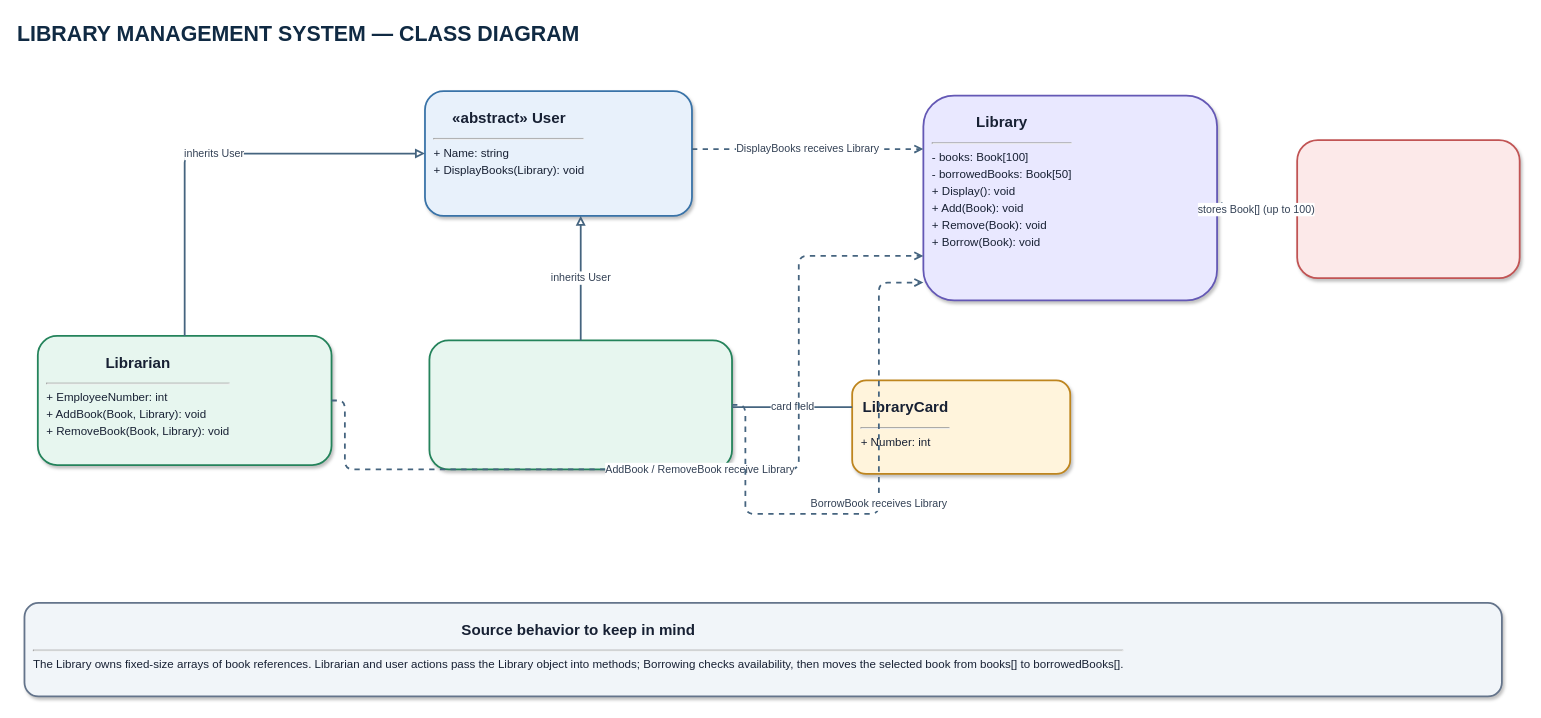
Image size: 1541x718. Some labels were removed from this diagram. Here are the shapes that lost their labels. From the top down, the centre of each, then its label:
(x=1408, y=210): Book + Title: string + Author: string + Year: int
(x=581, y=406): LibraryUser + card: LibraryCard + BorrowBook(Book, Library): void
